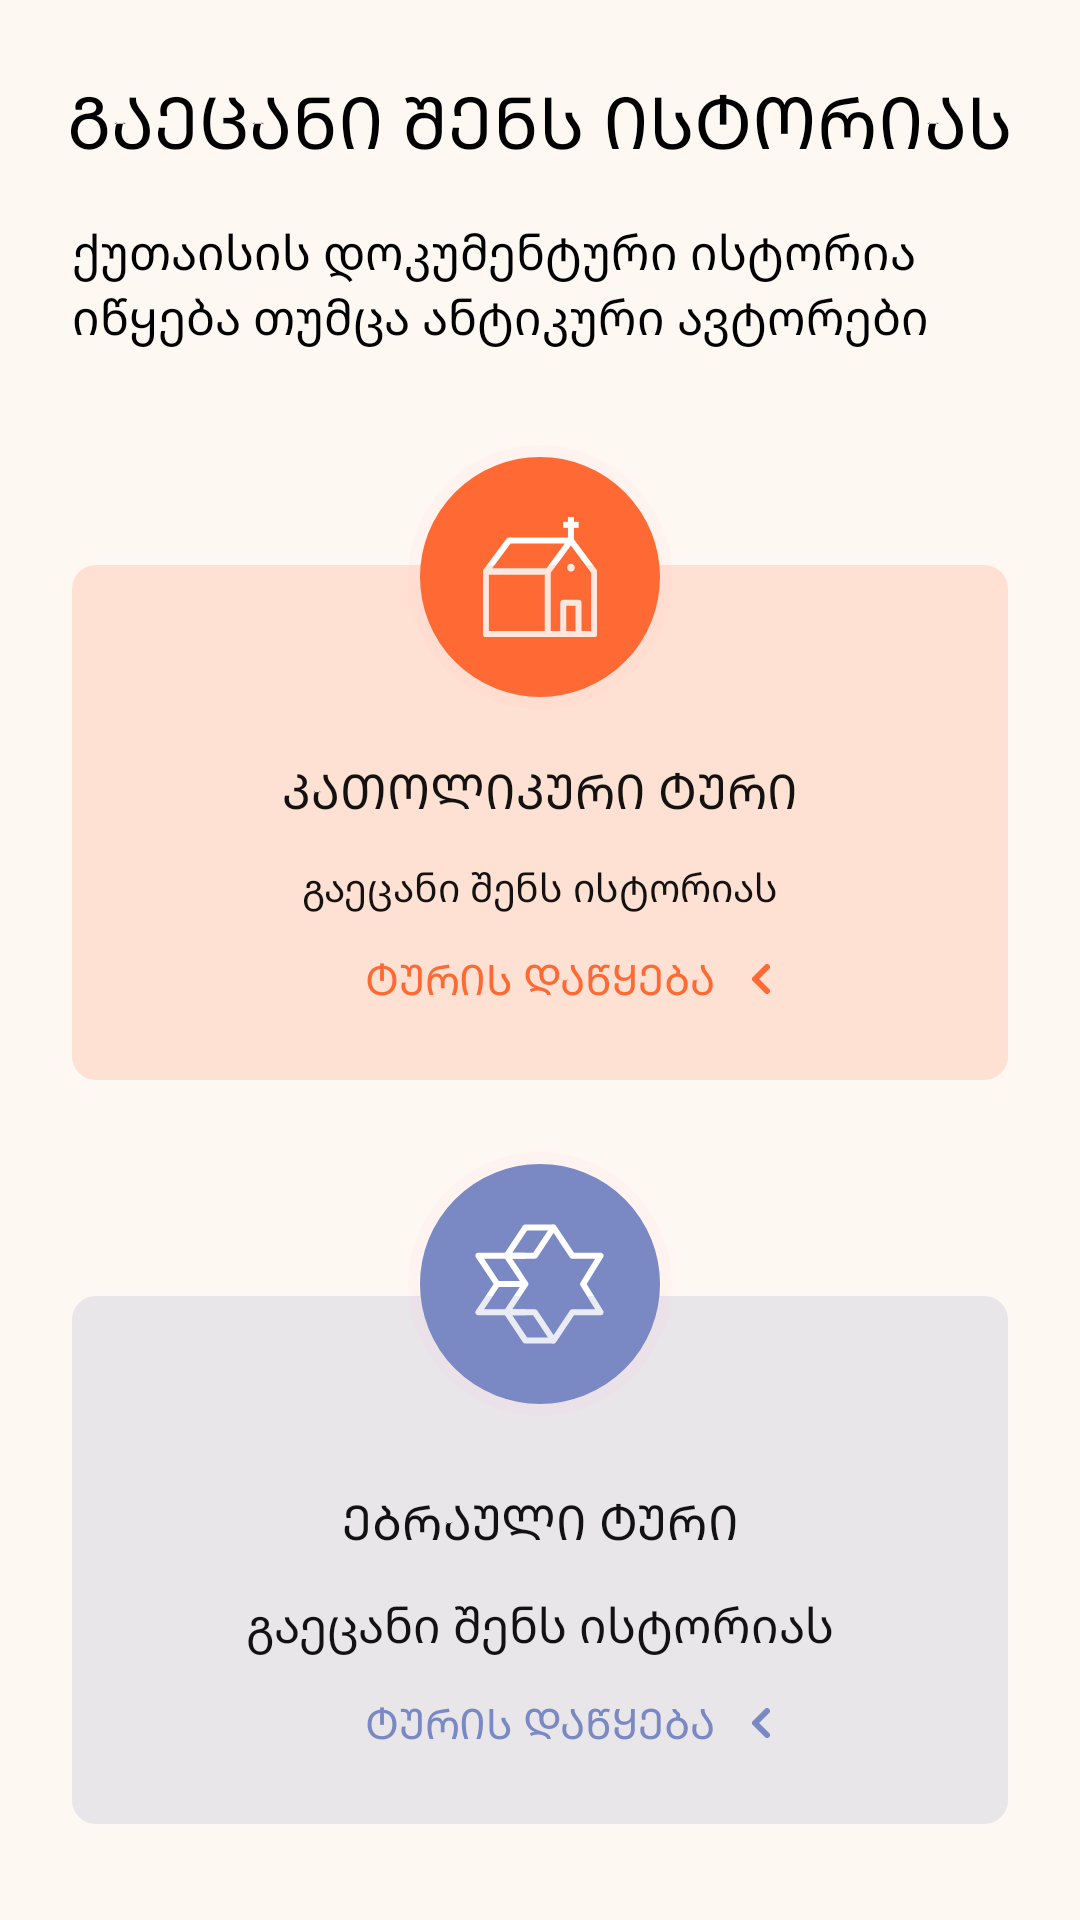

Icon bounding boxes for this 1080w x 1920h phone screenshot, format Rect(x1, y1, x2, y2):
hebrew: Rect(420, 1164, 660, 1404)
